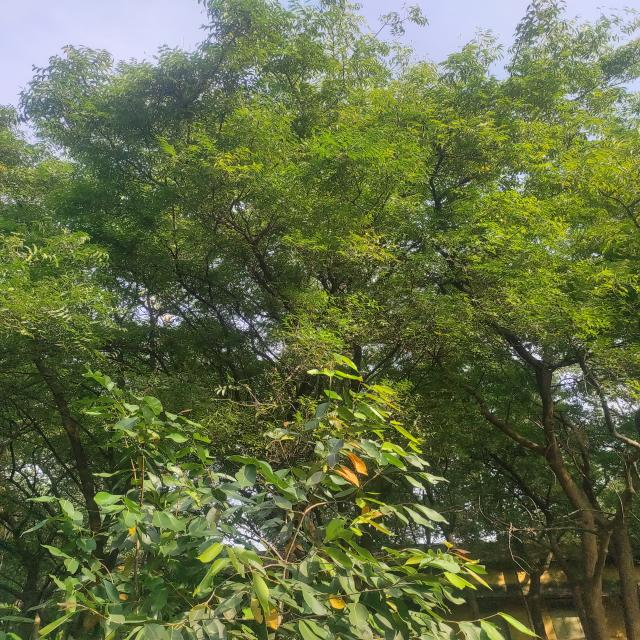Neem Tree: (40, 16, 628, 388)
